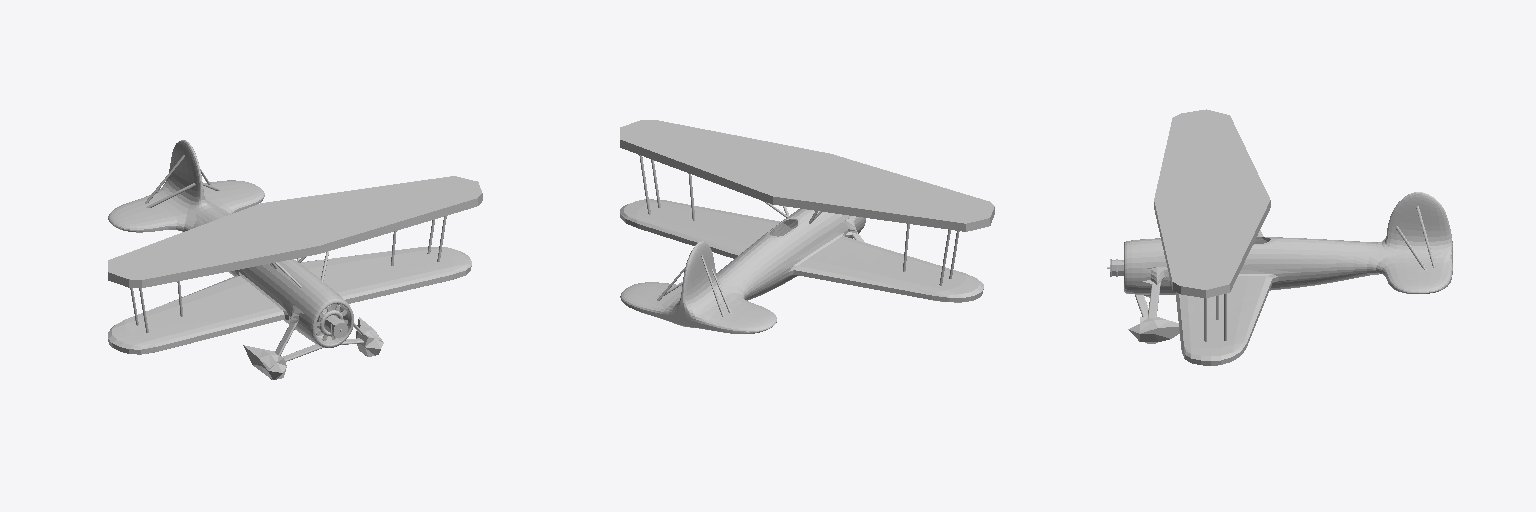
The model's file is Aereoaviatore.obj.
3 views of the same model, side by side, from view 1: azimuth 30°, elevation 25°; view 2: azimuth 150°, elevation 25°; view 3: azimuth 270°, elevation 25° (orthographic).
Parts seen in each view (by area): view 1: pCube22 group3, group3 pCube23, group3 pCube24; view 2: pCube22 group3, group3 pCube23; view 3: pCube22 group3, group3 pCube23, group3 pCube24.
Boxes of the visible parts, x1,y1,x2,y2 form: pCube22 group3: [108, 140, 471, 354]; group3 pCube23: [108, 176, 482, 287]; group3 pCube24: [243, 317, 383, 379]; pCube22 group3: [620, 199, 983, 333]; group3 pCube23: [620, 120, 994, 231]; pCube22 group3: [1124, 192, 1452, 365]; group3 pCube23: [1154, 109, 1270, 297]; group3 pCube24: [1128, 295, 1179, 341].
Size of the model in its own units: 51.8 by 17.11 by 41.79.